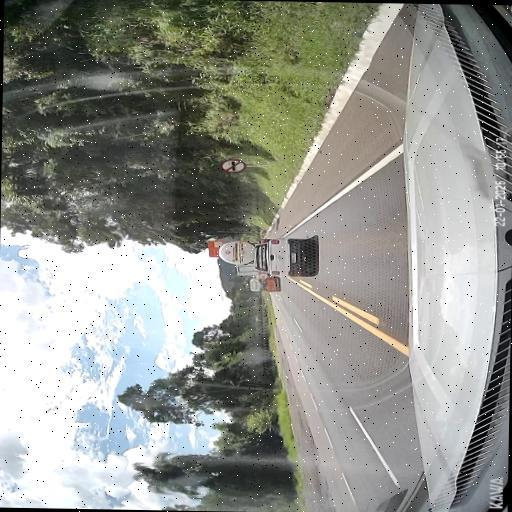R-7: (220, 158, 246, 172)
